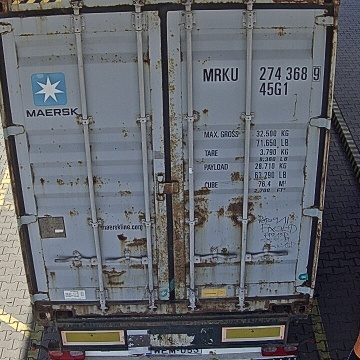serial_id: (203, 66, 321, 81)
